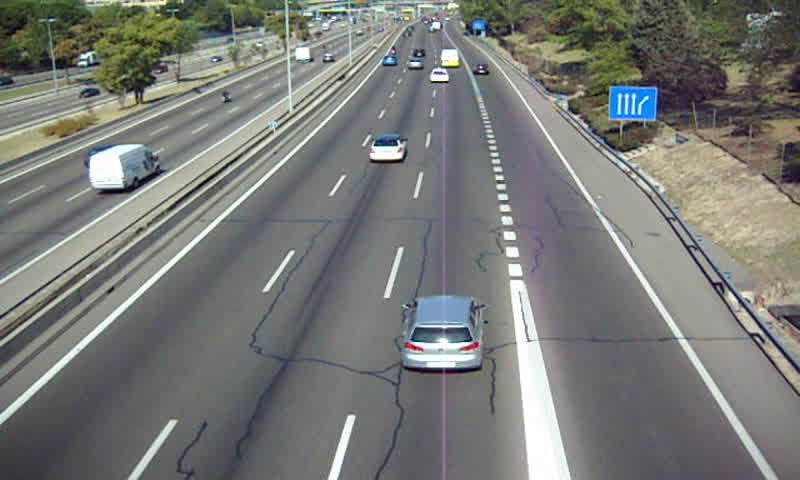car: (402, 296, 483, 371), (368, 135, 408, 162), (429, 70, 451, 83), (472, 64, 490, 77)
